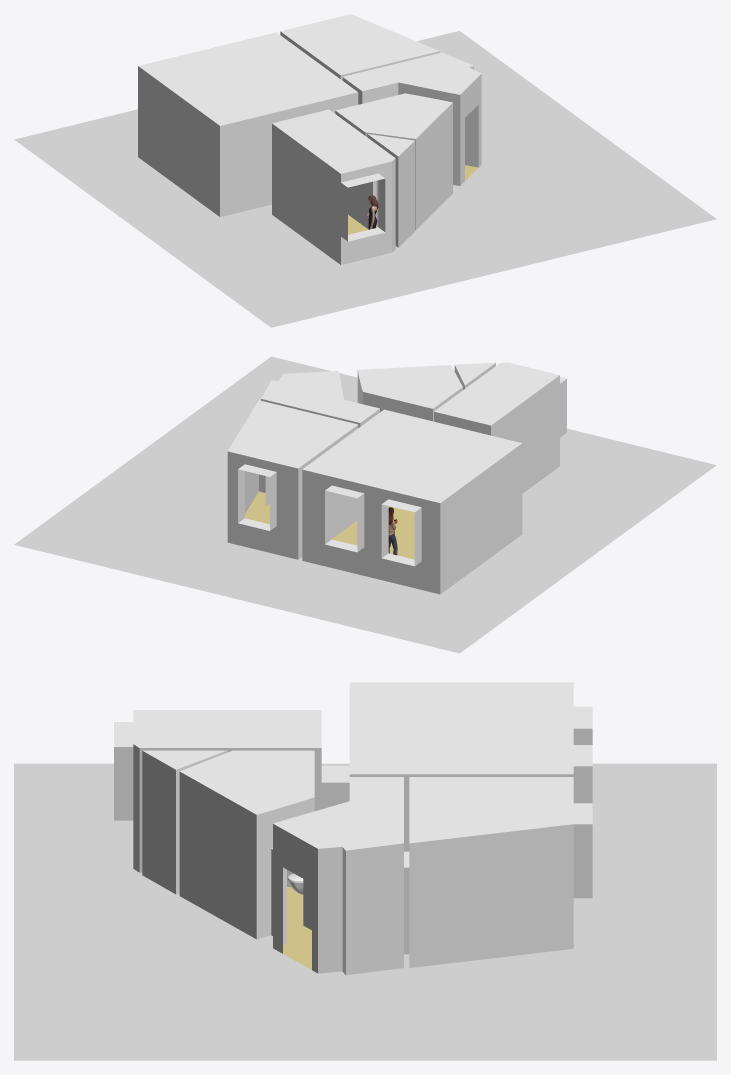
Rendered from room_example_3.glb.
3 views of the same model, one above another, from view 1: azimuth 30°, elevation 25°; view 2: azimuth 150°, elevation 25°; view 3: azimuth 270°, elevation 25° (orthographic). The views are drawn at different scales.
Visible parts, largest first — view 1: Plane.007, Plane.003, Plane.008; view 2: Plane.003, Plane.007; view 3: Plane.007, Plane.003.
Part boxes in pixels (x1=…): Plane.007: x1=14, y1=31, x2=716, y2=327; Plane.003: x1=138, y1=14, x2=481, y2=264; Plane.008: x1=465, y1=105, x2=478, y2=167; Plane.003: x1=227, y1=362, x2=566, y2=594; Plane.007: x1=14, y1=356, x2=716, y2=653; Plane.007: x1=14, y1=763, x2=716, y2=1060; Plane.003: x1=114, y1=682, x2=592, y2=975.
Size of the model in its own units: 14.71 by 2.98 by 14.71.
Materials: 9 (3 with a texture image).
